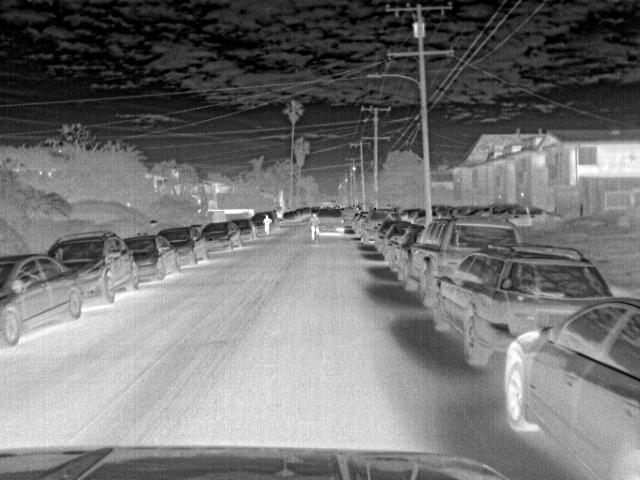car: (500, 295, 638, 477), (433, 249, 612, 368), (403, 221, 521, 308), (0, 253, 86, 354), (48, 230, 136, 308), (127, 236, 177, 286), (387, 225, 423, 280), (158, 228, 207, 267), (495, 206, 565, 229), (361, 207, 400, 247), (381, 220, 414, 261), (201, 223, 240, 257), (374, 218, 402, 252), (314, 208, 345, 235), (227, 219, 254, 244), (458, 206, 489, 222), (254, 212, 277, 228), (354, 213, 370, 235), (281, 211, 296, 222)
person: (308, 211, 321, 241), (260, 214, 272, 236)
